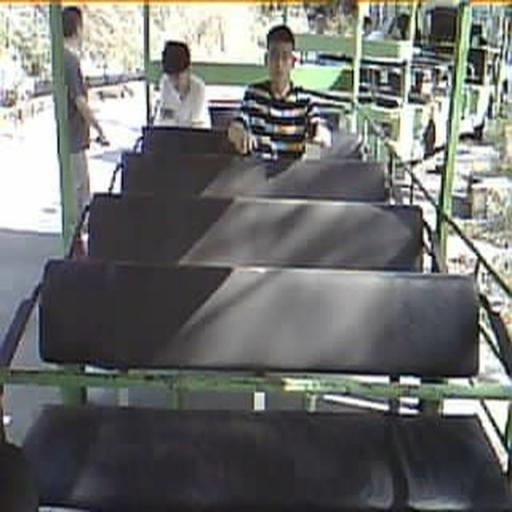persona: (227, 24, 334, 163), (152, 40, 212, 130)
